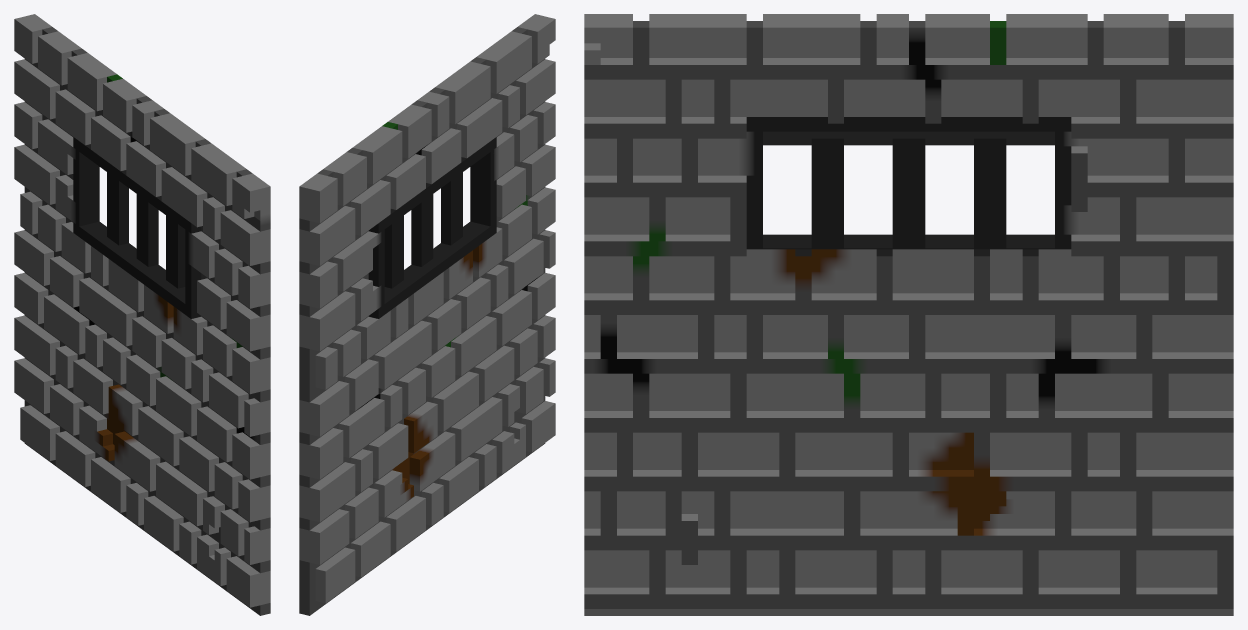
The model's file is Small Bars Wall.fbx.
3 renders of one model, left to right at view 1: azimuth 30°, elevation 25°; view 2: azimuth 150°, elevation 25°; view 3: azimuth 270°, elevation 25°, orthographic. The views are drawn at different scales.
Parts seen in each view (by area): view 1: SmallBarsWall; view 2: SmallBarsWall; view 3: SmallBarsWall.
Part boxes in pixels (bbox=[...]): SmallBarsWall: bbox=[14, 14, 270, 615]; SmallBarsWall: bbox=[299, 14, 555, 615]; SmallBarsWall: bbox=[584, 14, 1233, 615].
Bounding box in the file's own units: 10 × 200 × 200.
